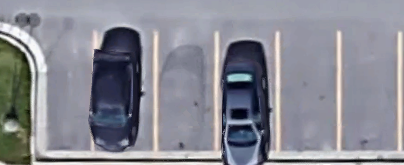Occupied: (217, 32, 279, 154), (94, 32, 156, 152)
Vacant: (155, 32, 217, 154), (277, 32, 339, 153), (339, 33, 400, 153), (39, 31, 94, 154)
